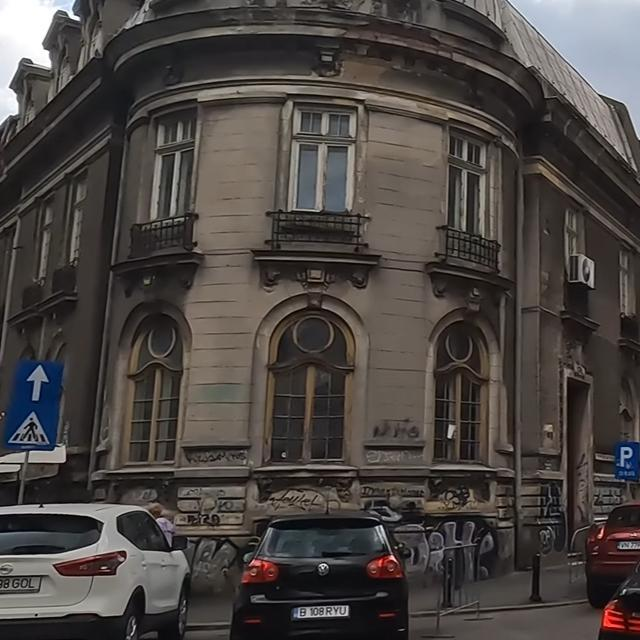info_crosswalk: (3, 405, 59, 450)
